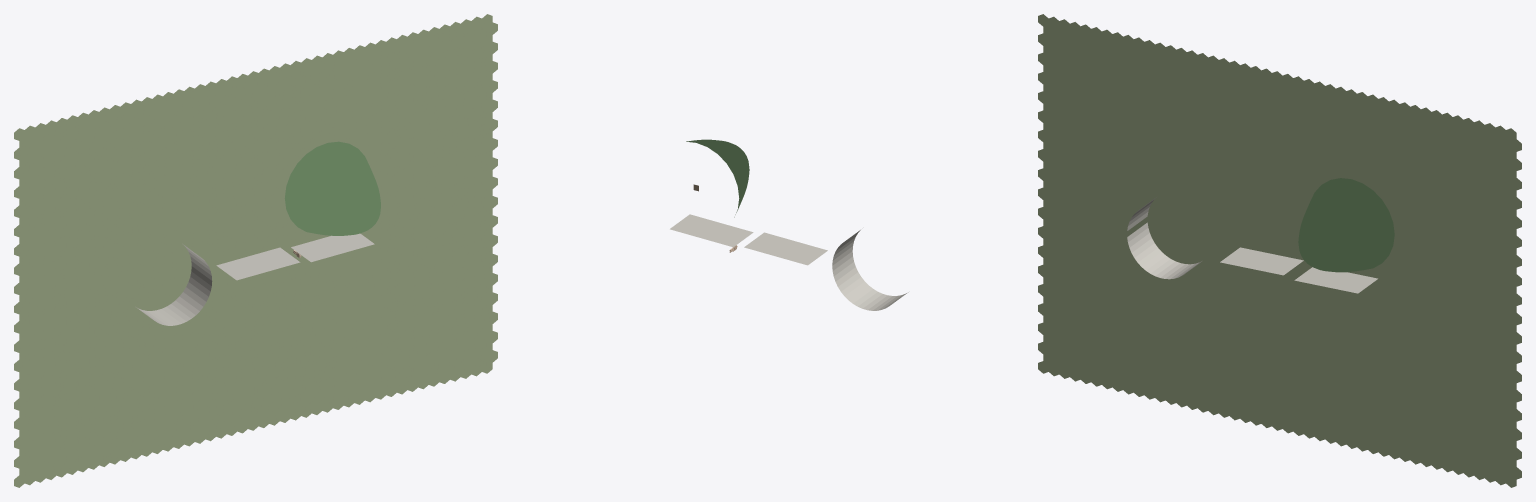
The picture shows the model from 3 angles, left to right: view 1: azimuth 30°, elevation 25°; view 2: azimuth 150°, elevation 25°; view 3: azimuth 330°, elevation 25°; orthographic projection.
Parts seen in each view (by area): view 1: ground, canopy, walls; view 2: walls, canopy; view 3: ground, canopy, walls.
Boxes of the visible parts, bbox=[...] form: ground: bbox=[14, 14, 497, 487]; canopy: bbox=[284, 141, 380, 235]; walls: bbox=[136, 233, 374, 325]; walls: bbox=[670, 214, 908, 310]; canopy: bbox=[686, 139, 749, 217]; ground: bbox=[1038, 14, 1521, 487]; canopy: bbox=[1298, 178, 1394, 272]; walls: bbox=[1127, 197, 1377, 293].
Size of the model in its own units: 78.81 by 56 by 12.
